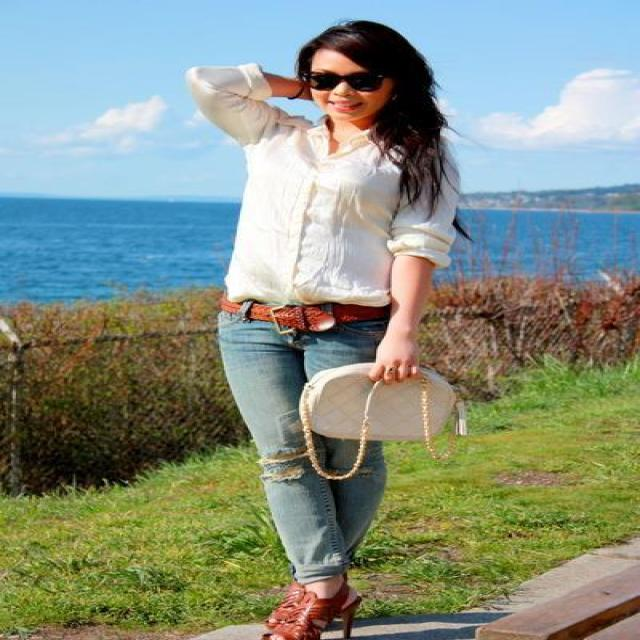bag: (299, 365, 466, 479)
pants: (218, 320, 386, 575)
shirt: (184, 62, 480, 309)
shoe: (259, 555, 368, 639)
sunglass: (290, 56, 390, 99)
